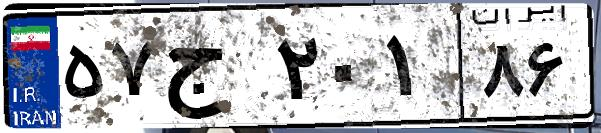0: (330, 28, 385, 110)
1: (385, 28, 445, 110)
2: (270, 28, 330, 110)
5: (57, 26, 110, 100)
6: (525, 38, 570, 115)
7: (110, 28, 158, 98)
8: (475, 38, 525, 113)
ج: (158, 20, 270, 120)
